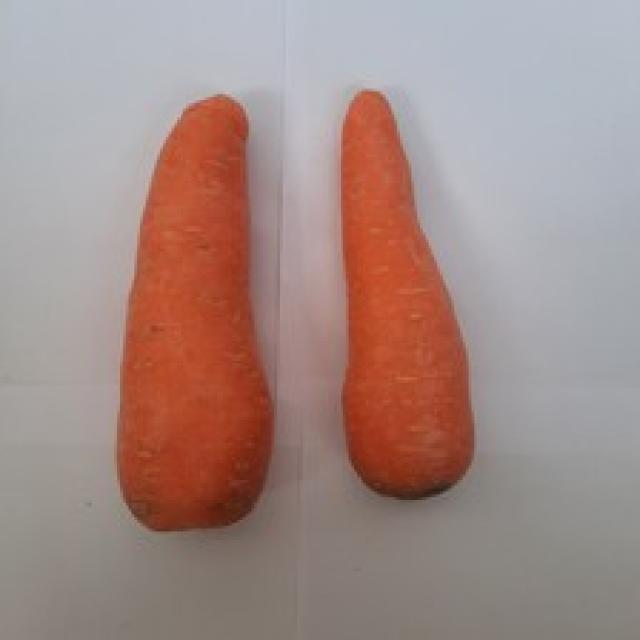Fresh_Carrot: (115, 95, 278, 532), (345, 90, 474, 498)
